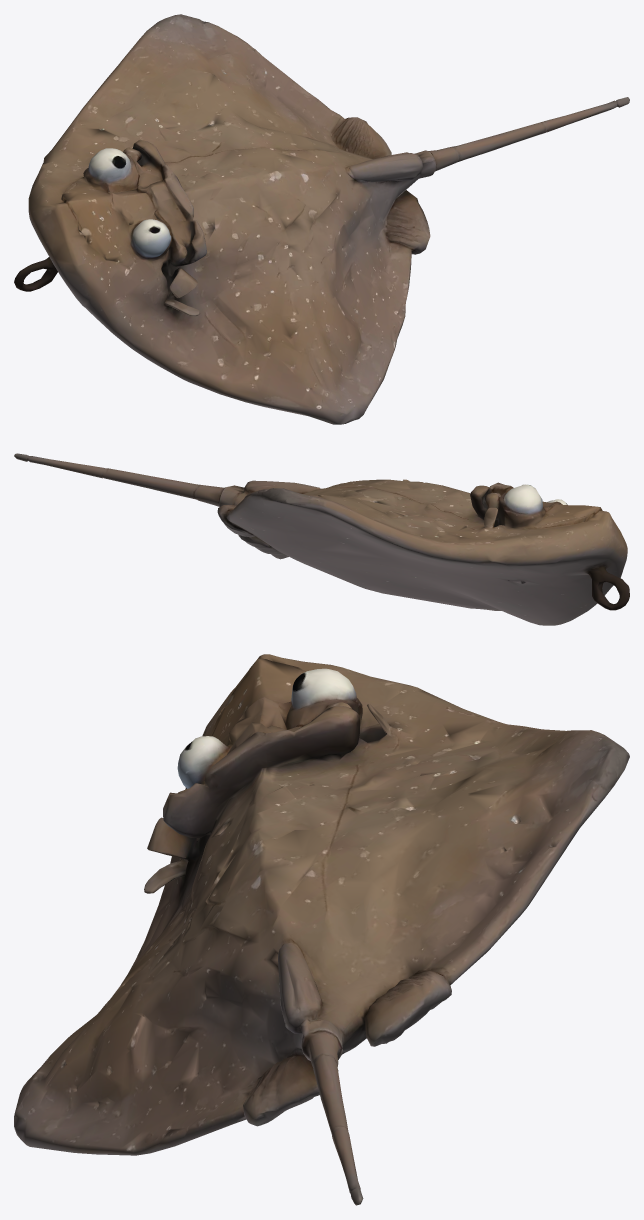
The model's file is fish-skat.glb.
3 views of the same model, one above another, from view 1: azimuth 30°, elevation 25°; view 2: azimuth 150°, elevation 25°; view 3: azimuth 270°, elevation 25° (orthographic). The views are drawn at different scales.
Visible parts, largest first — view 1: tripo_node_ebd99a11-387c-4829-ad4f-8cf70a4b4323; view 2: tripo_node_ebd99a11-387c-4829-ad4f-8cf70a4b4323; view 3: tripo_node_ebd99a11-387c-4829-ad4f-8cf70a4b4323.
Part boxes in pixels (left/top/right/bottom): tripo_node_ebd99a11-387c-4829-ad4f-8cf70a4b4323: left=14, top=14, right=629, bottom=424; tripo_node_ebd99a11-387c-4829-ad4f-8cf70a4b4323: left=14, top=453, right=629, bottom=625; tripo_node_ebd99a11-387c-4829-ad4f-8cf70a4b4323: left=14, top=654, right=629, bottom=1205.
Bounding box in the file's own units: 1 × 0.3953 × 0.547.
Materials: 1 (1 with a texture image).
